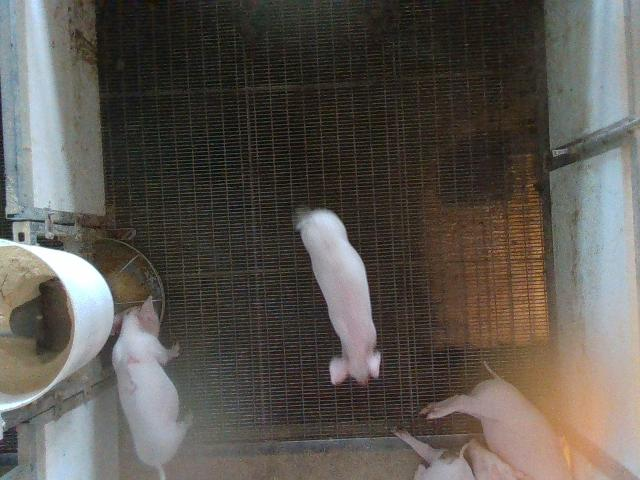pig-5: (112, 296, 189, 479)
